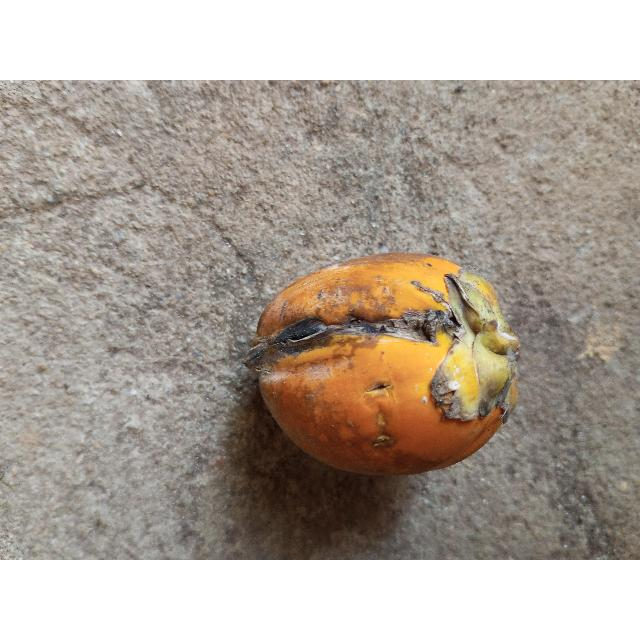damaged: (253, 253, 520, 479)
